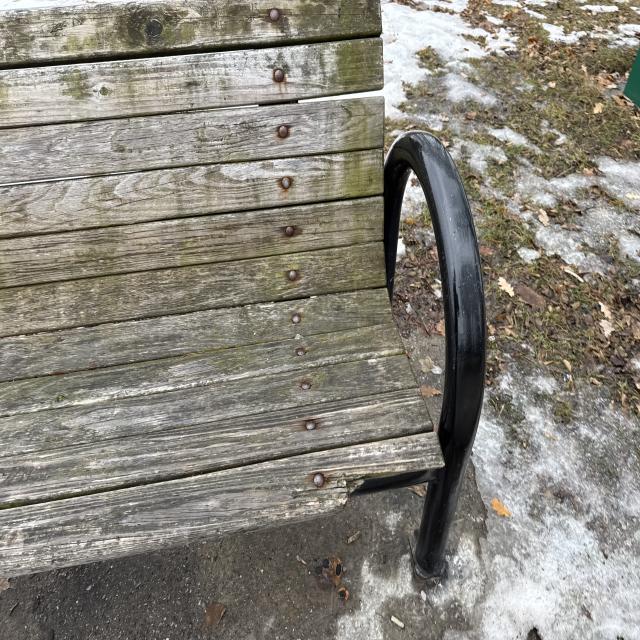Bench: (3, 17, 493, 577)
